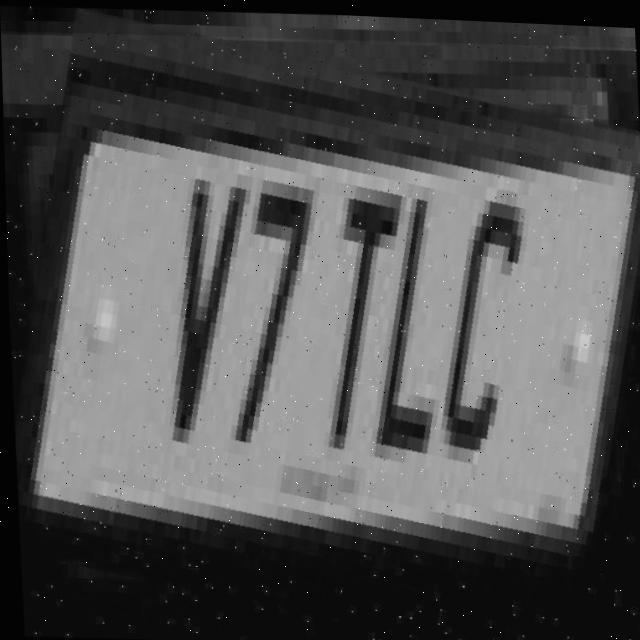LicensePlate: (0, 19, 640, 640)
